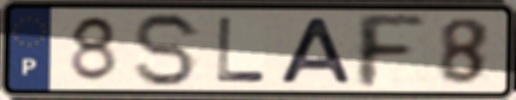8: (435, 16, 492, 88), (66, 14, 119, 85)
A: (275, 16, 356, 86)
F: (351, 11, 430, 91)
L: (214, 15, 270, 86)
S: (132, 10, 206, 90)
